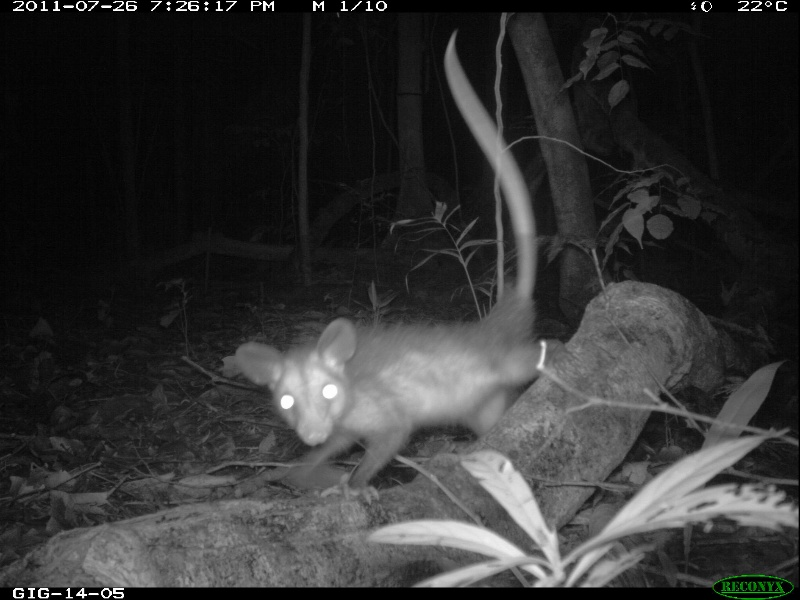opossum: (229, 31, 555, 490)
